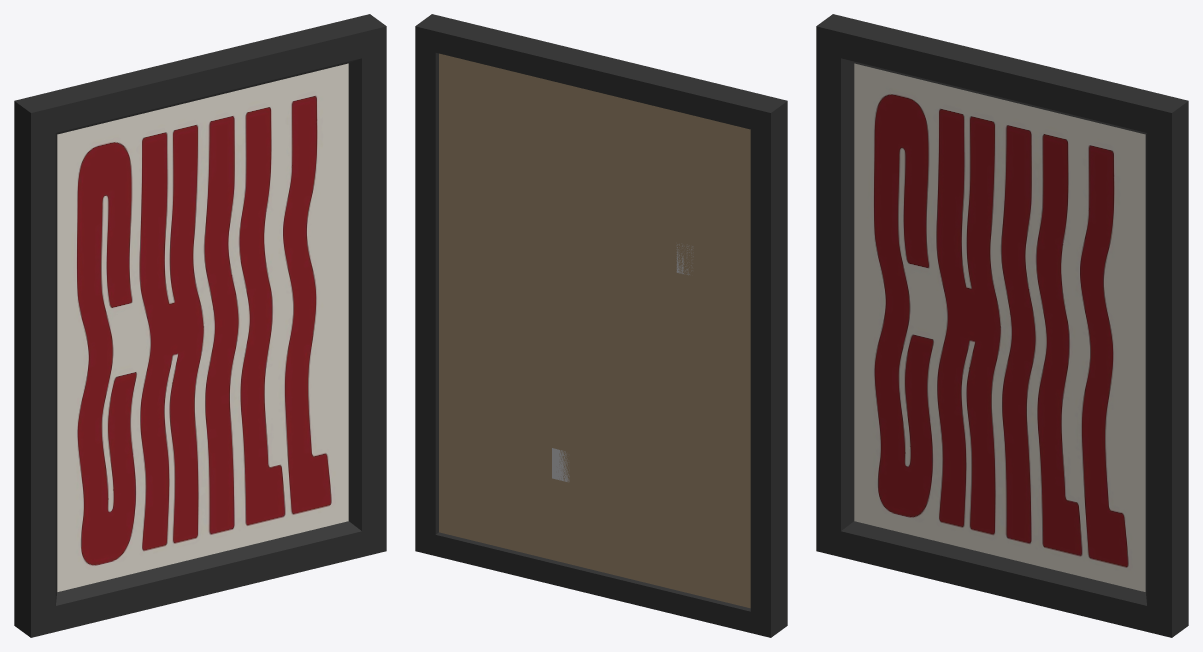
The model's file is chill-20x30.glb.
The picture shows the model from 3 angles, left to right: view 1: azimuth 30°, elevation 25°; view 2: azimuth 150°, elevation 25°; view 3: azimuth 330°, elevation 25°; orthographic projection.
Visible parts, largest first — view 1: LAWHA 20x30; view 2: LAWHA 20x30; view 3: LAWHA 20x30.
Boxes of the visible parts, x1,y1,x2,y2 form: LAWHA 20x30: [14, 14, 386, 637]; LAWHA 20x30: [415, 14, 787, 637]; LAWHA 20x30: [816, 14, 1188, 637].
Size of the model in its own units: 0.244 by 0.344 by 0.02.
Materials: 4 (1 with a texture image).
